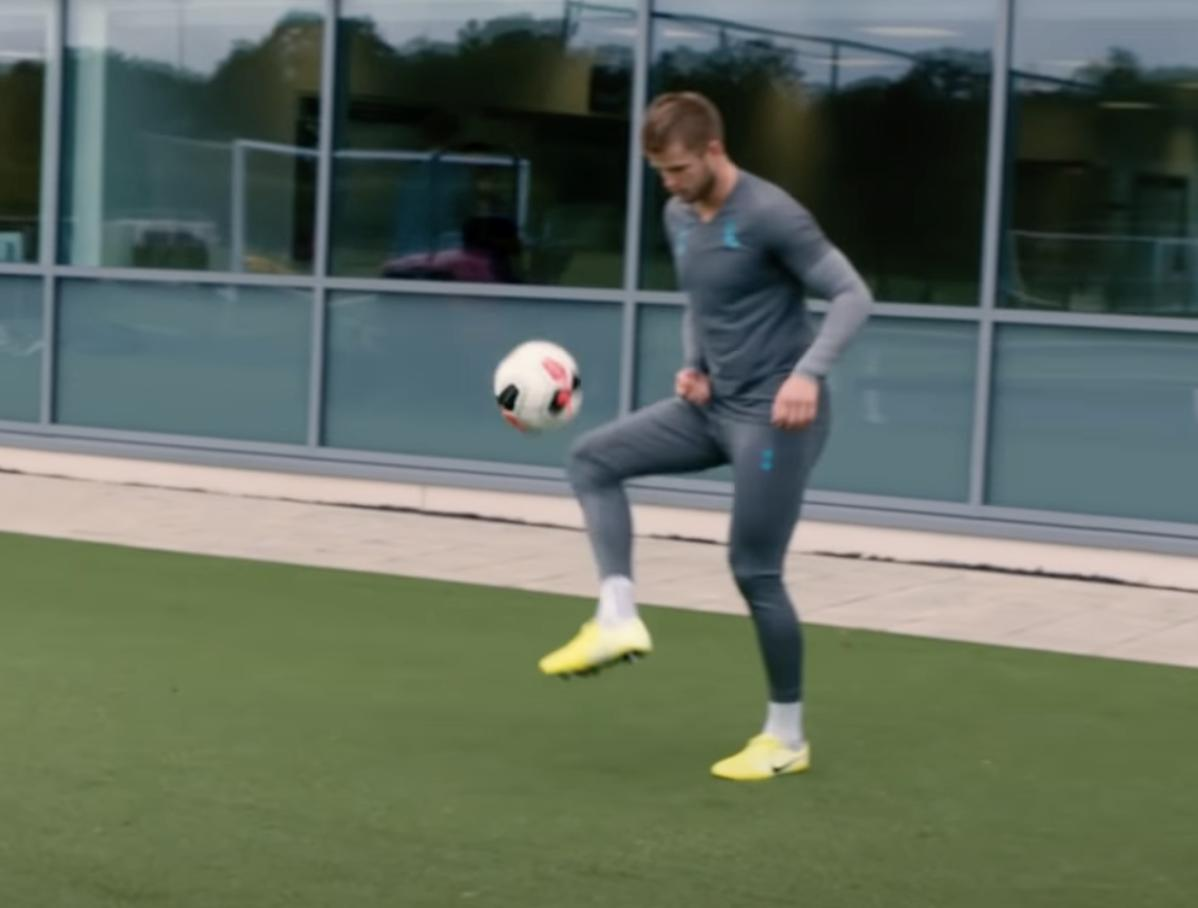ball: (493, 342, 579, 431)
foot: (538, 608, 659, 681), (709, 732, 809, 787)
person: (542, 90, 876, 781)
